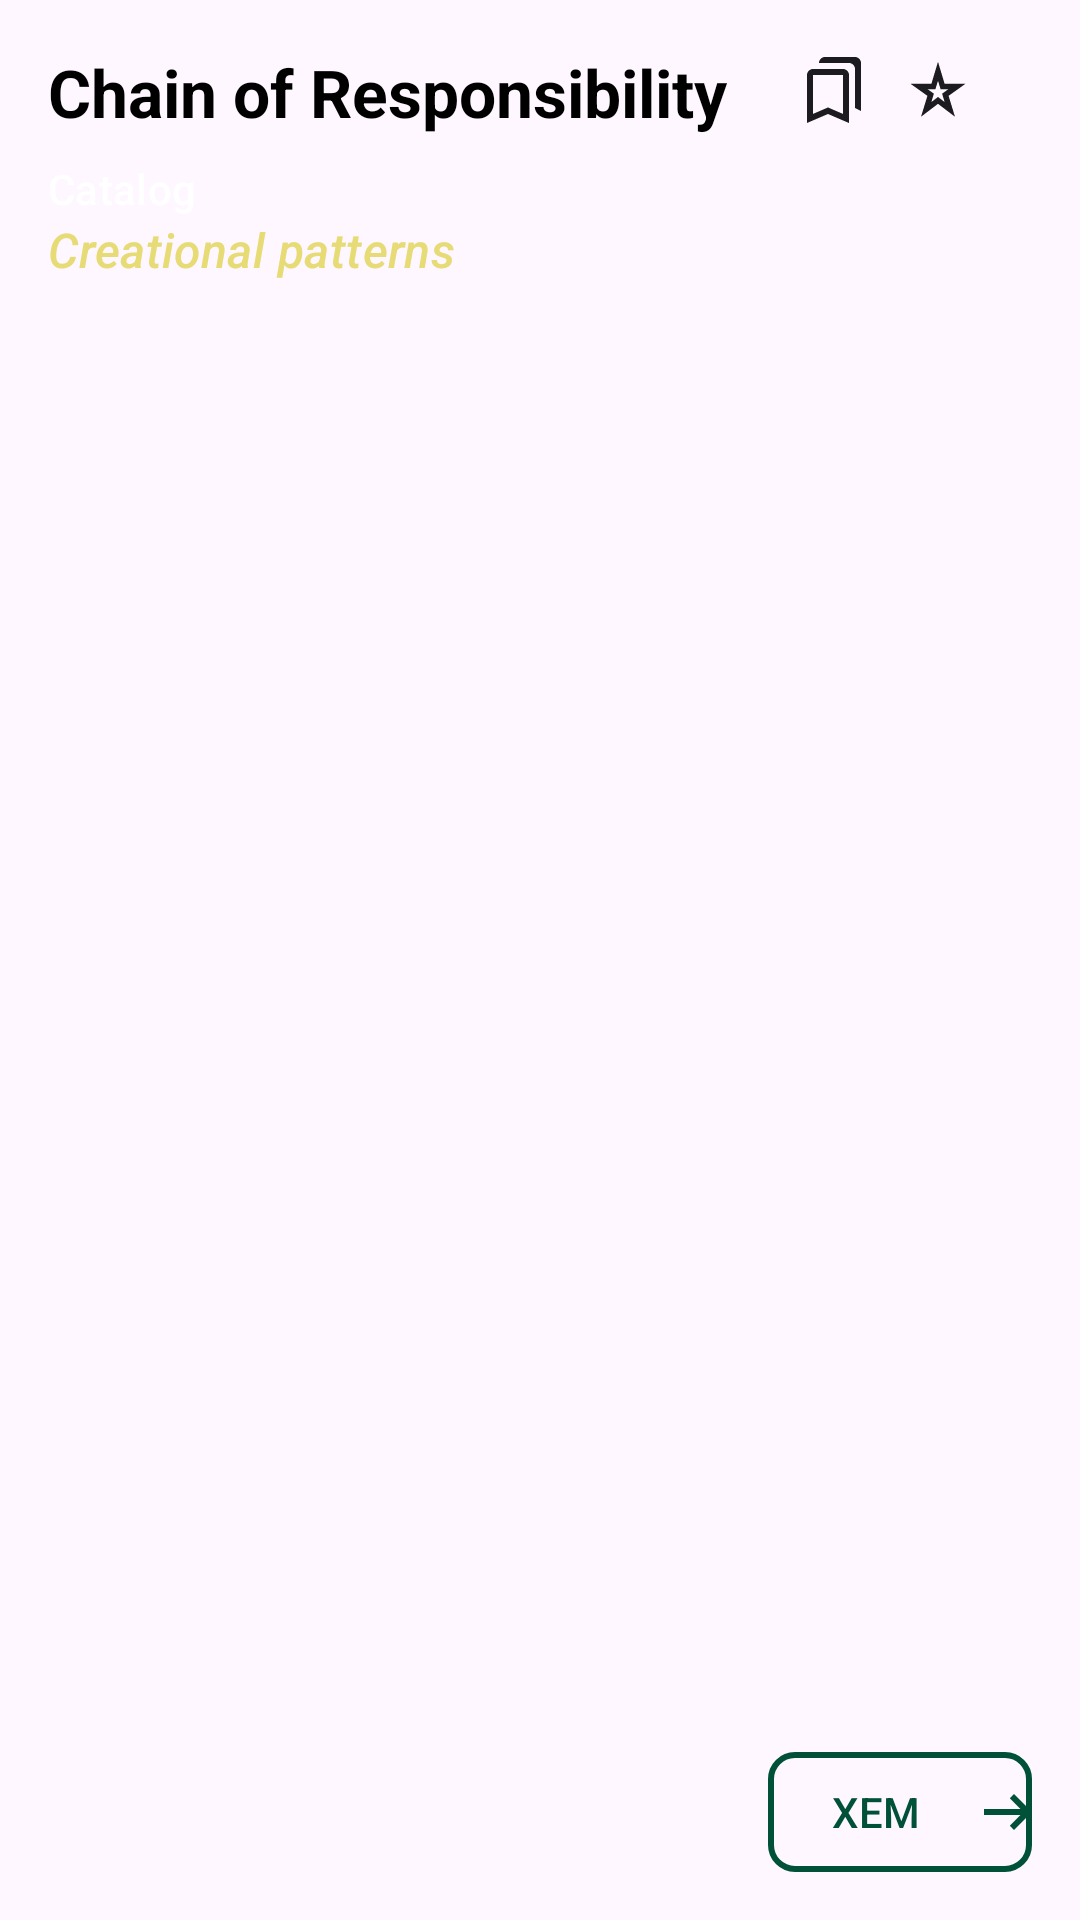

Named icons in this screenshot (1080w x 1920h) and their centers, (x=x, y=y):
bookmark: (x=834, y=90)
star: (x=938, y=89)
